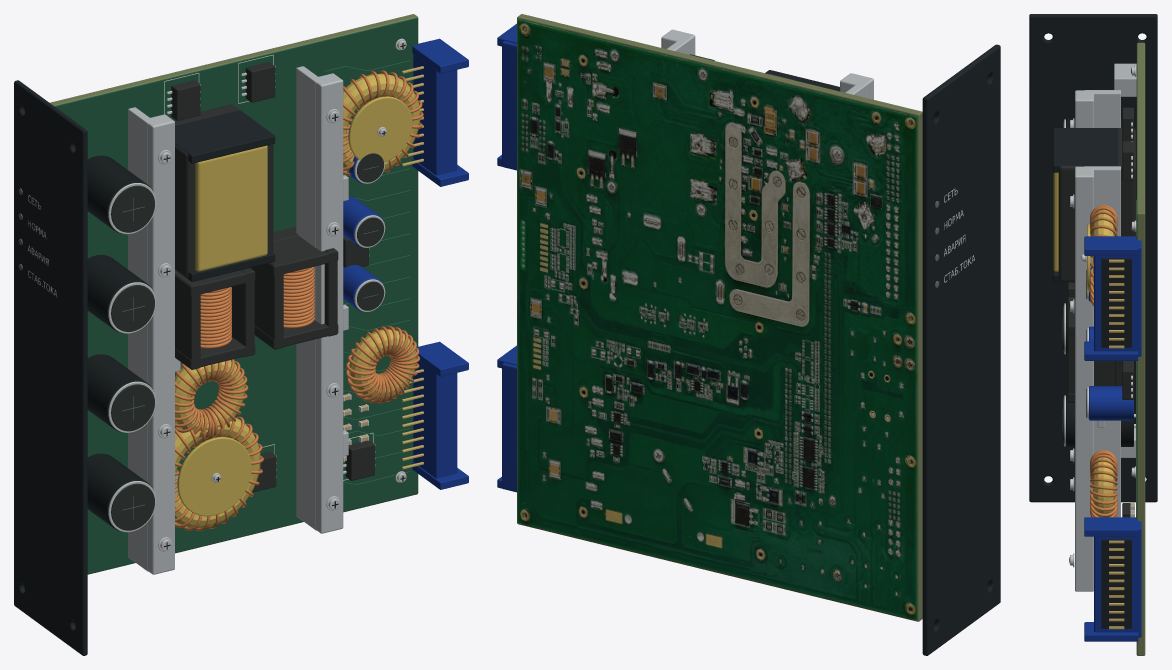
The model's file is kns.glb.
The picture shows the model from 3 angles, left to right: view 1: azimuth 30°, elevation 25°; view 2: azimuth 150°, elevation 25°; view 3: azimuth 270°, elevation 25°; orthographic projection. The views are drawn at different scales.
Visible parts, largest first — view 1: Solder mask · dark green, Black anodised aluminium, Brushed aluminium, Transformer insulation, Ferrite core, Connector polymer, Copper winding, Capacitor sleeve, Capacitor top seal, Stainless fasteners, FR4 board edge, Gold contacts (+2 smaller); view 2: Cleaned back-side photograph, Black anodised aluminium, FR4 board edge, Connector polymer, Brushed aluminium; view 3: Black anodised aluminium, Brushed aluminium, Connector polymer, Ferrite core, FR4 board edge, Copper winding, Transformer insulation, Gold contacts, Stainless fasteners, Capacitor sleeve, Solder mask · dark green, Capacitor top seal.
Boxes of the visible parts, box(x1,y1,x2,y2) form: Solder mask · dark green: box(54, 17, 417, 574); Black anodised aluminium: box(14, 43, 405, 655); Brushed aluminium: box(128, 66, 348, 574); Transformer insulation: box(175, 73, 420, 527); Ferrite core: box(171, 62, 374, 492); Connector polymer: box(343, 38, 468, 489); Copper winding: box(175, 70, 423, 530); Capacitor sleeve: box(87, 155, 153, 531); Capacitor top seal: box(111, 153, 384, 530); Stainless fasteners: box(108, 38, 406, 551); FR4 board edge: box(50, 14, 418, 574); Gold contacts: box(402, 66, 423, 469); Cleaned back-side photograph: box(517, 19, 916, 620); Black anodised aluminium: box(765, 44, 1000, 655); FR4 board edge: box(517, 14, 922, 621); Connector polymer: box(497, 23, 516, 492); Brushed aluminium: box(661, 29, 873, 99); Black anodised aluminium: box(1029, 14, 1157, 628); Brushed aluminium: box(1075, 63, 1136, 591); Connector polymer: box(1084, 236, 1141, 641); Ferrite core: box(1058, 107, 1135, 517); FR4 board edge: box(1137, 42, 1145, 655); Copper winding: box(1090, 205, 1117, 517); Transformer insulation: box(1053, 172, 1114, 517); Gold contacts: box(1109, 259, 1124, 629); Stainless fasteners: box(1064, 65, 1136, 567); Capacitor sleeve: box(1066, 118, 1133, 446); Solder mask · dark green: box(1136, 44, 1136, 654); Capacitor top seal: box(1063, 121, 1086, 443).
Bounding box in the file's own units: 3.47 × 4.18 × 1.
Materials: 17 (1 with a texture image).
